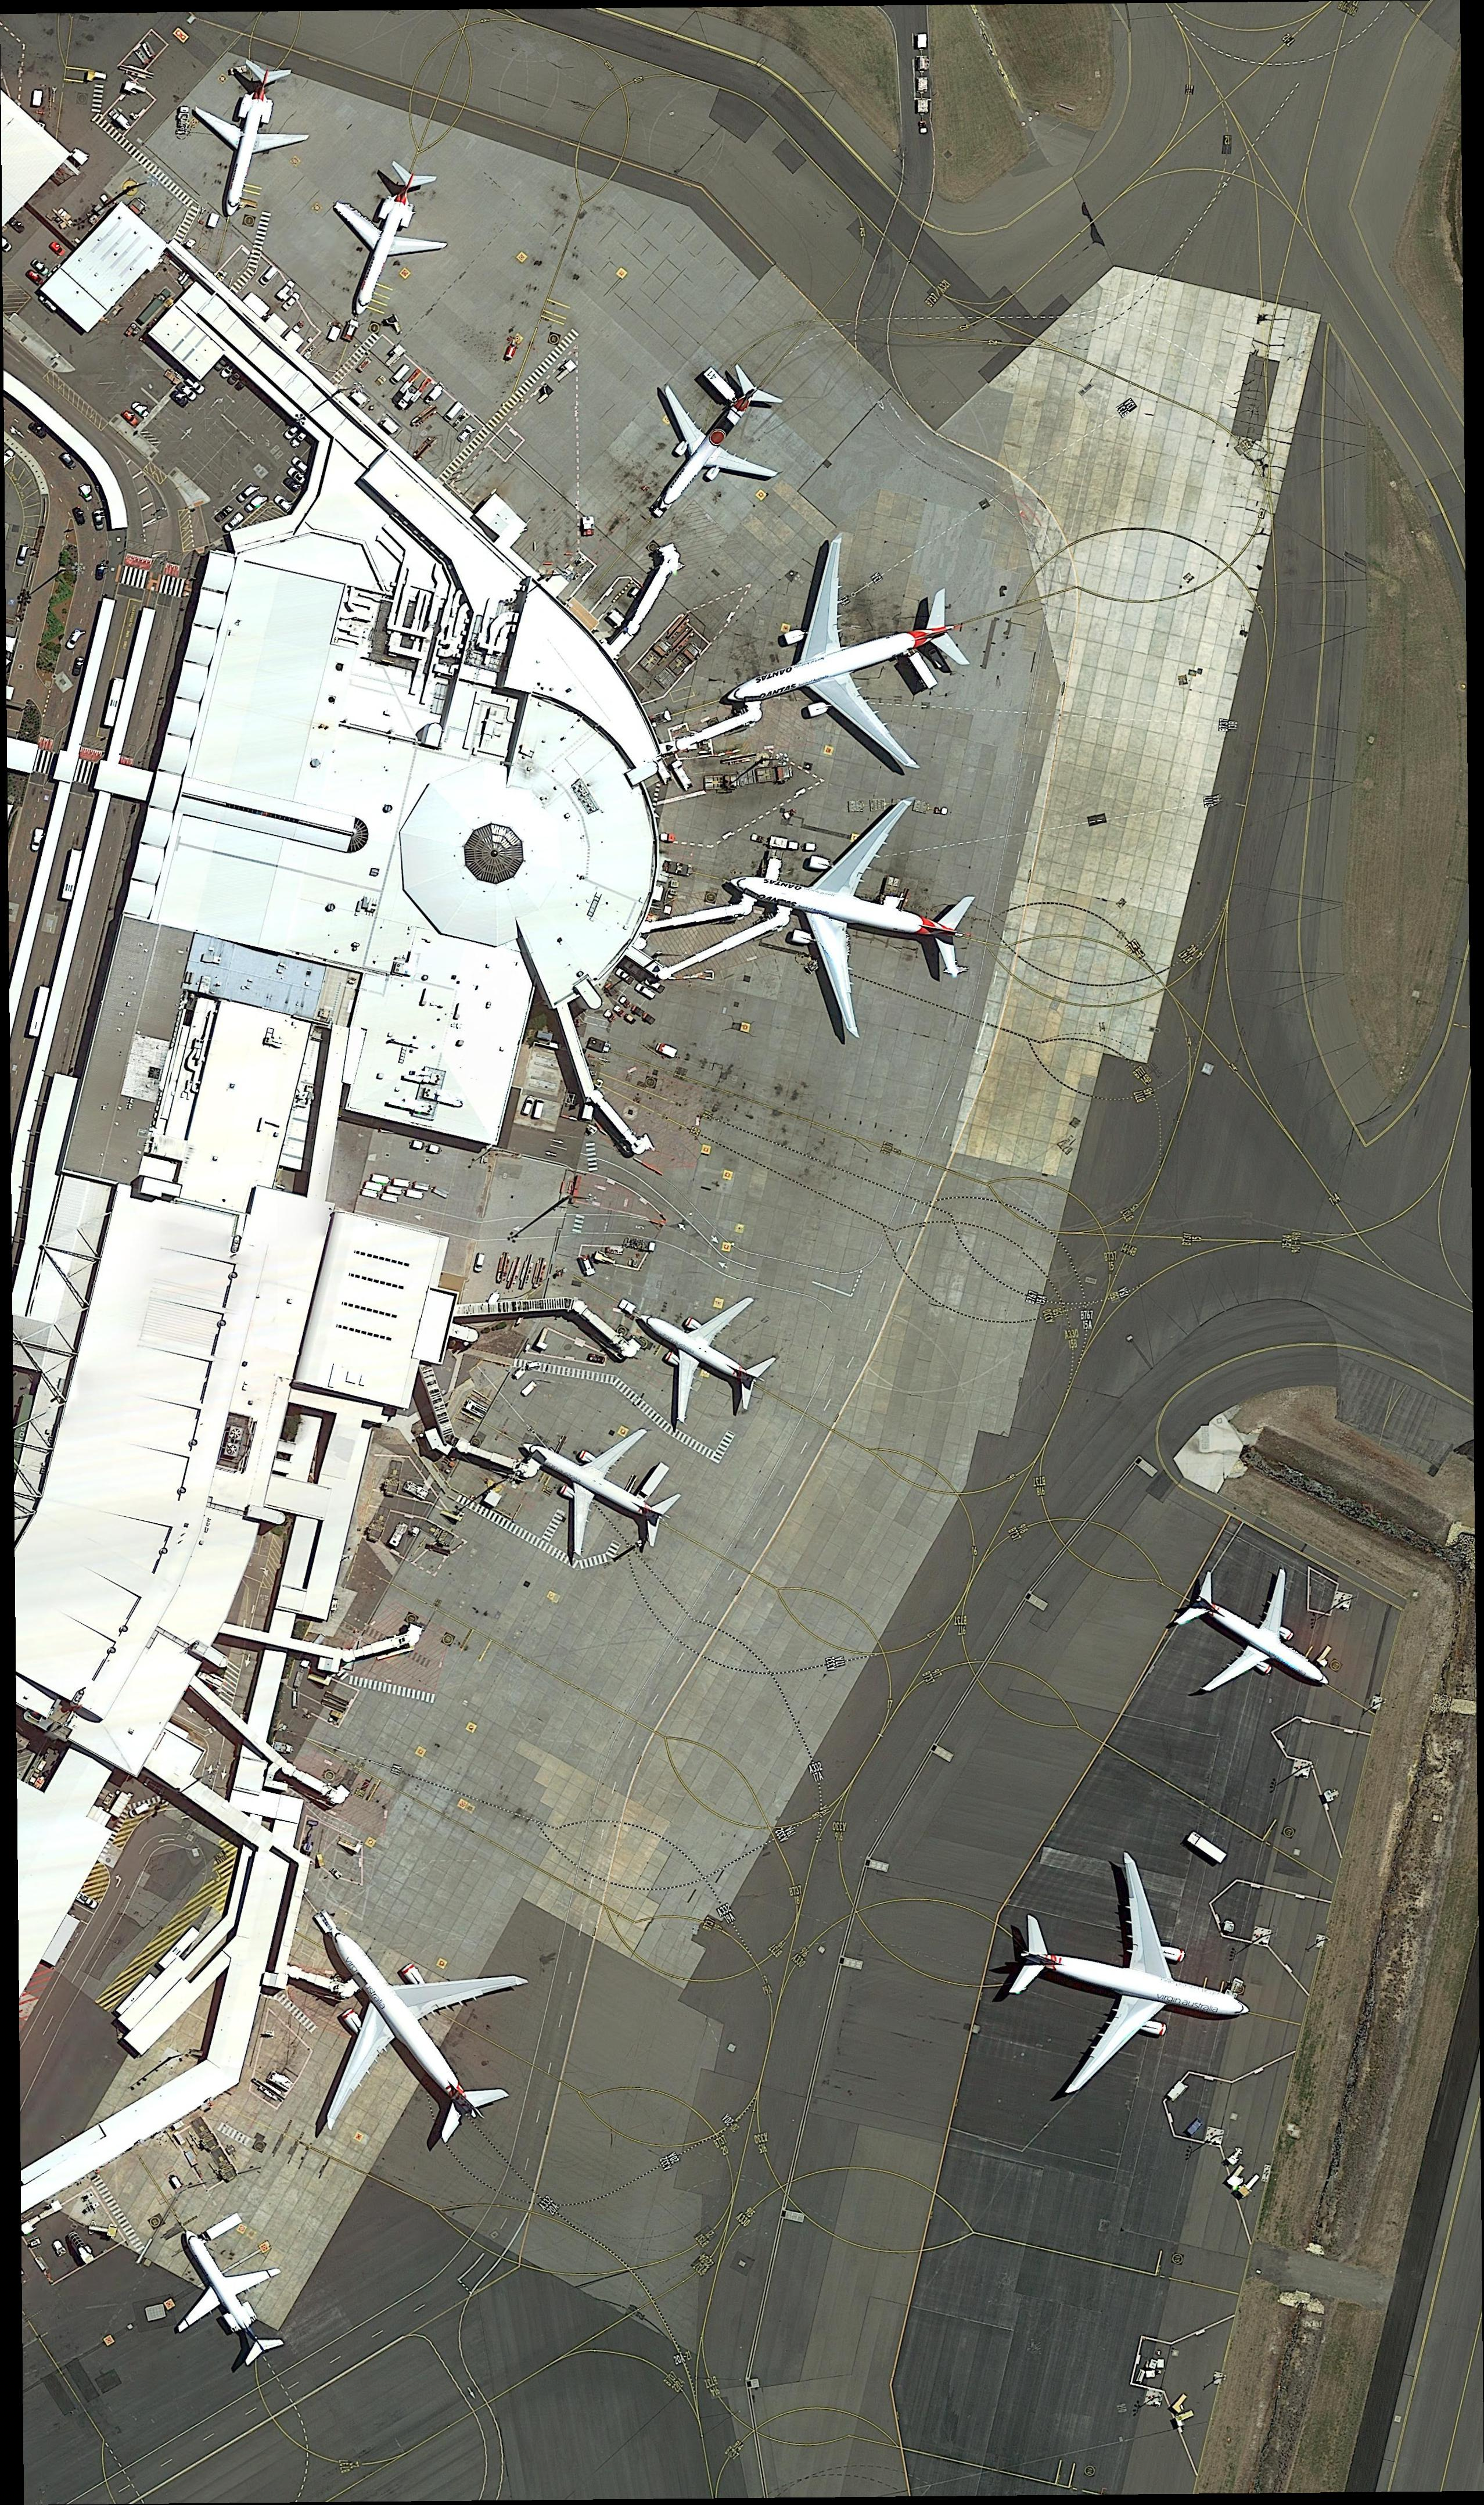plane: (240, 1857, 572, 2196), (973, 1830, 1268, 2138), (700, 518, 998, 795), (707, 768, 993, 1051), (1145, 1533, 1369, 1745), (601, 339, 821, 553), (488, 1387, 700, 1588), (604, 1261, 799, 1454), (302, 148, 461, 330), (148, 2205, 307, 2383), (175, 55, 318, 228)
